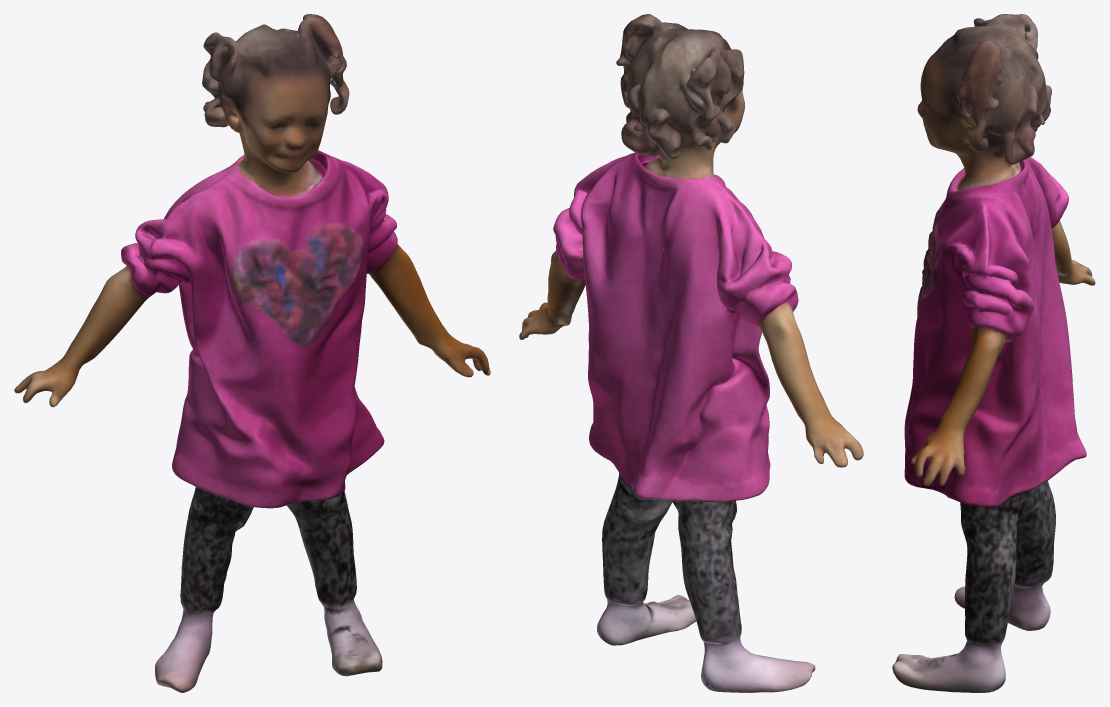
The model's file is Hailey_game.obj.
3 renders of one model, left to right at view 1: azimuth 30°, elevation 25°; view 2: azimuth 150°, elevation 25°; view 3: azimuth 270°, elevation 25°, orthographic.
Visible parts, largest first — view 1: Hailey_game; view 2: Hailey_game; view 3: Hailey_game.
Part boxes in pixels (x1=…): Hailey_game: x1=14, y1=14, x2=490, y2=692; Hailey_game: x1=519, y1=14, x2=863, y2=692; Hailey_game: x1=892, y1=14, x2=1095, y2=692.
Size of the model in its own units: 0.6648 by 1 by 0.2932.
1 material, 1 textured.
